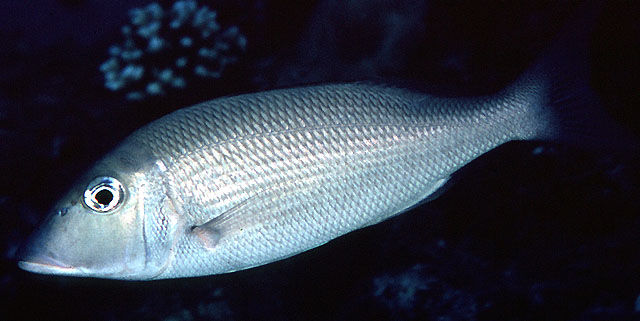fish: (17, 70, 570, 281)
